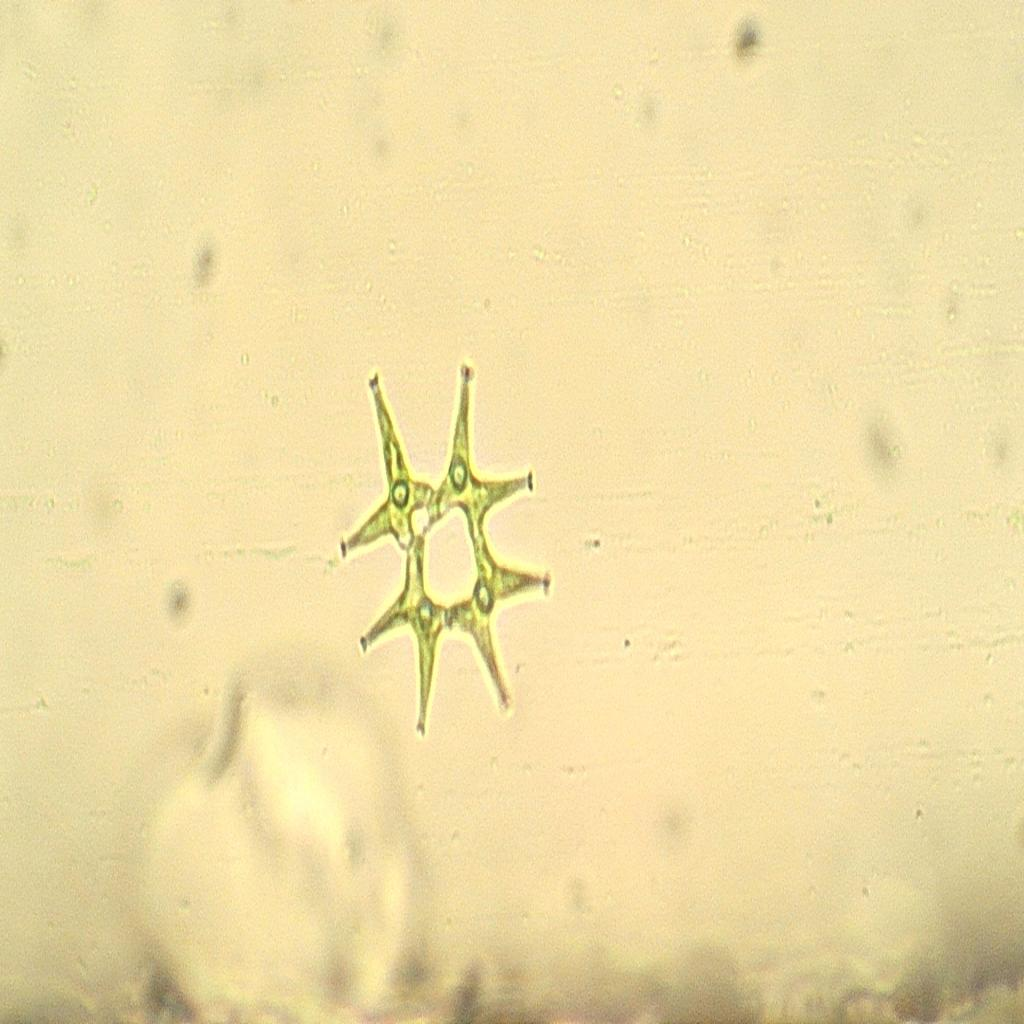Pediastrum_75FO: (313, 333, 570, 771)
